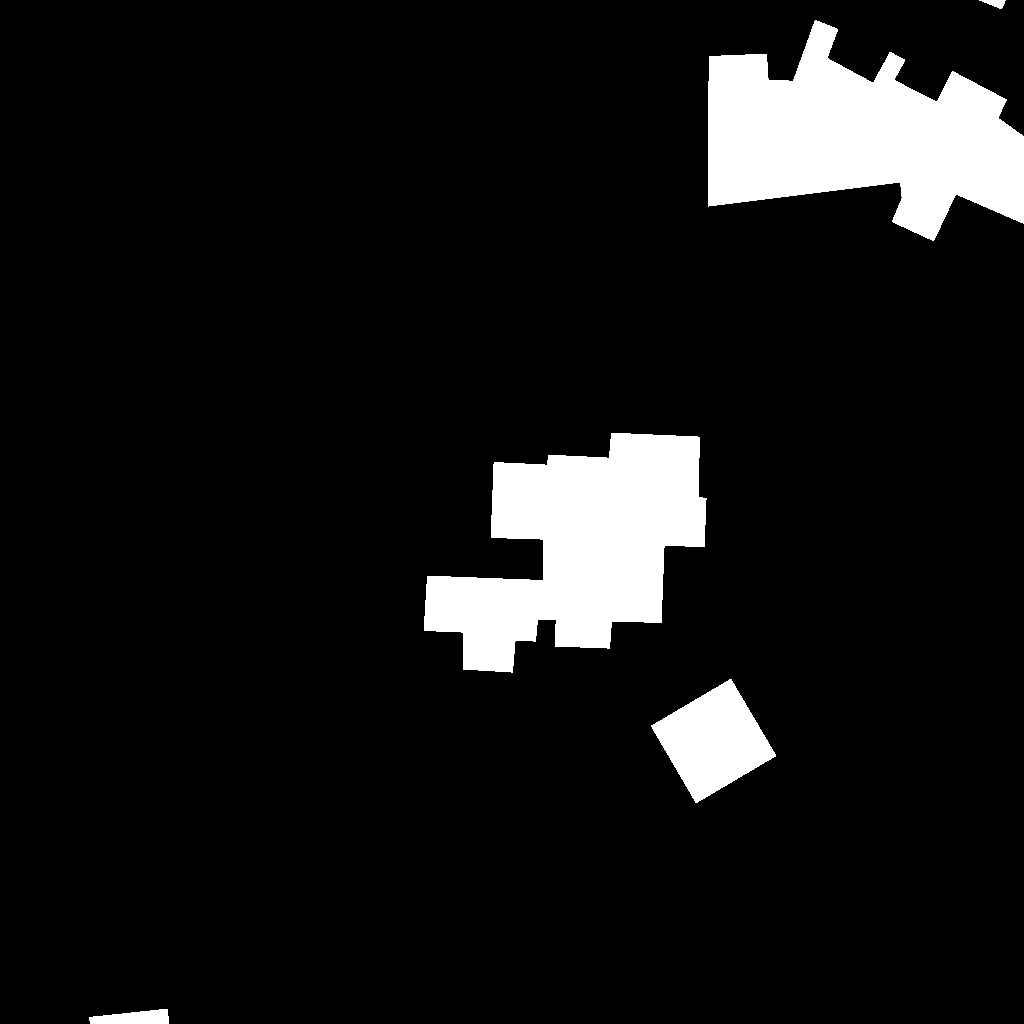building: (708, 20, 1024, 242), (424, 433, 707, 673), (651, 679, 777, 804), (89, 1009, 170, 1024), (978, 0, 1024, 10)
